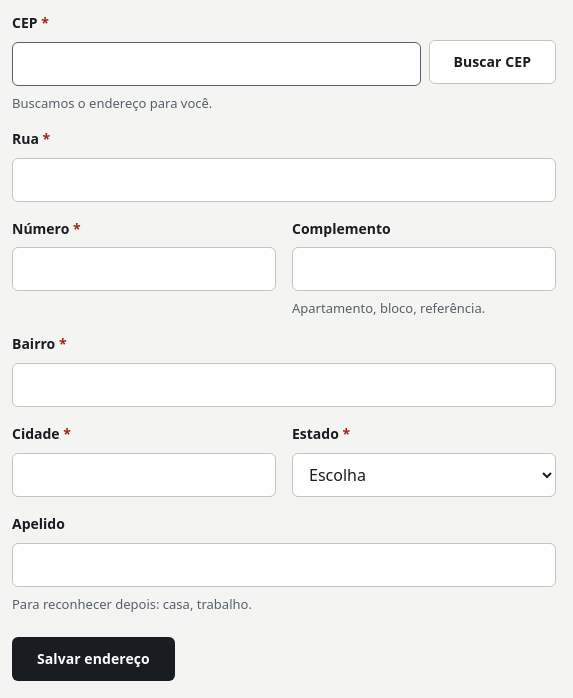
it: FormularioDeEndereco › deixa preencher à mão quando a busca de CEP falha
The image size is (573, 698).
Type "99999999" into the field labelled "CEP *" at {"x": 216, "y": 64}, box [12, 42, 420, 86]
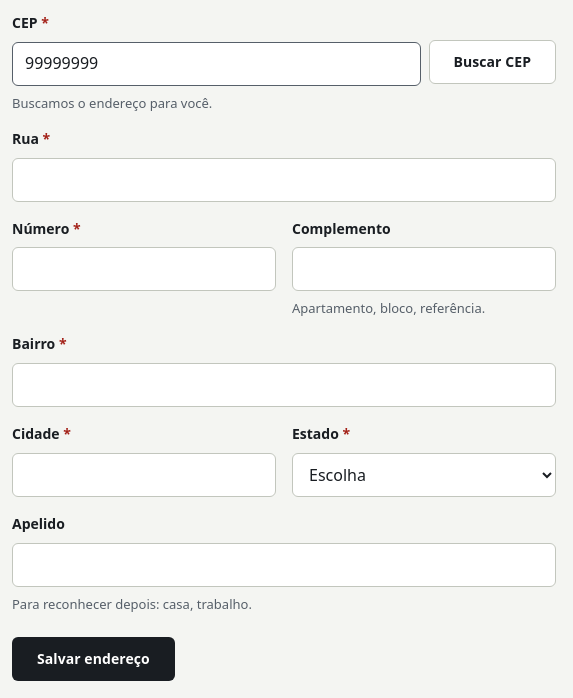
Click the button "Buscar CEP" at {"x": 492, "y": 62}, box [428, 40, 556, 84]
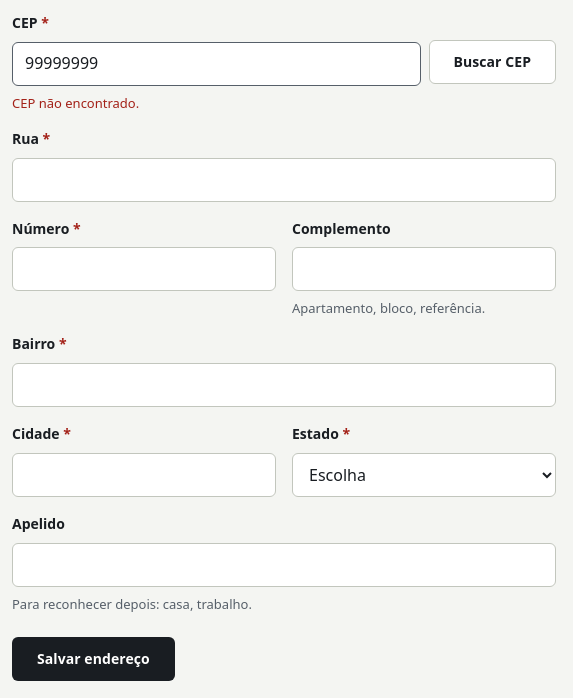
Check: the text "CEP não encontrado." is shown, box [12, 94, 139, 112]
